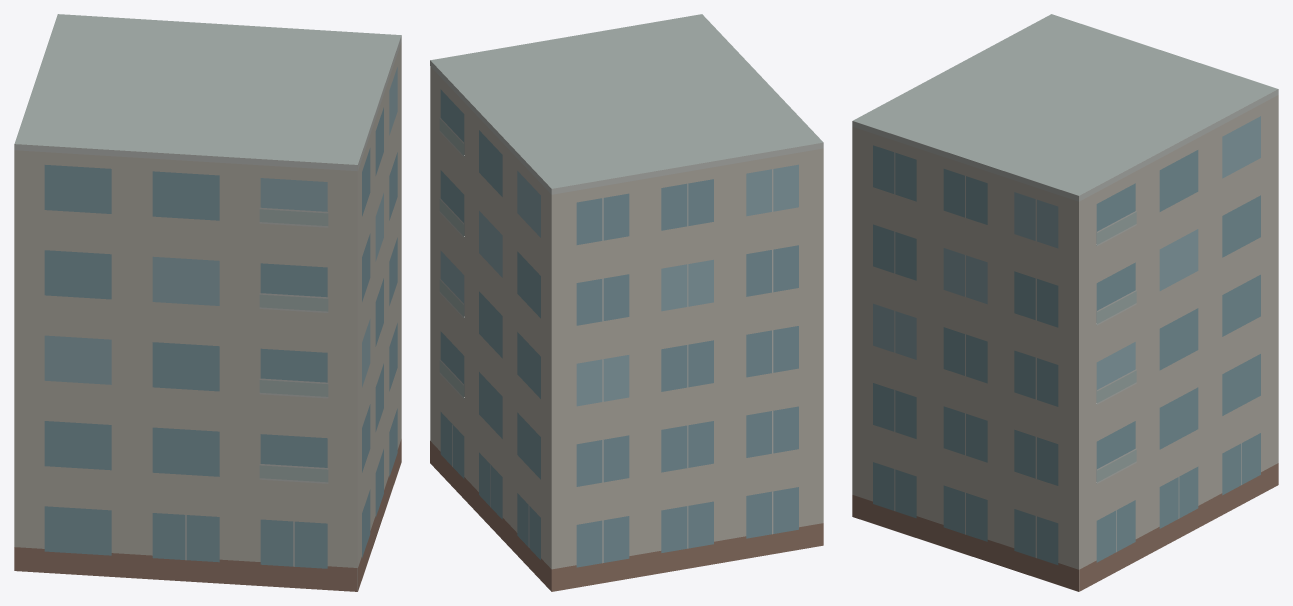
Rendered from survey-upis-33032112.glb.
3 views of the same model, side by side, from view 1: azimuth 30°, elevation 25°; view 2: azimuth 150°, elevation 25°; view 3: azimuth 270°, elevation 25° (orthographic). The views are drawn at different scales.
Visible parts, largest first — view 1: survey-upis-33032112.tmp; view 2: survey-upis-33032112.tmp; view 3: survey-upis-33032112.tmp.
Part boxes in pixels (left/top/right/bottom): survey-upis-33032112.tmp: left=14, top=14, right=401, bottom=591; survey-upis-33032112.tmp: left=430, top=14, right=823, bottom=591; survey-upis-33032112.tmp: left=852, top=14, right=1278, bottom=591.
Bounding box in the file's own units: 16.46 × 16.7 × 16.3.
